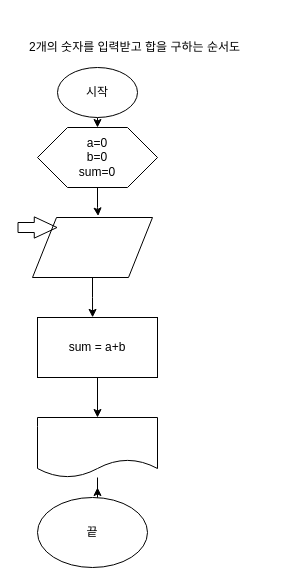
Image size: 284x585. Some labels were removed from this diagram. Here are the shapes that lost their labels. From the top down, the centre of each, then its label:
At point (92, 247): "a, b".
At point (97, 447): "sum".
